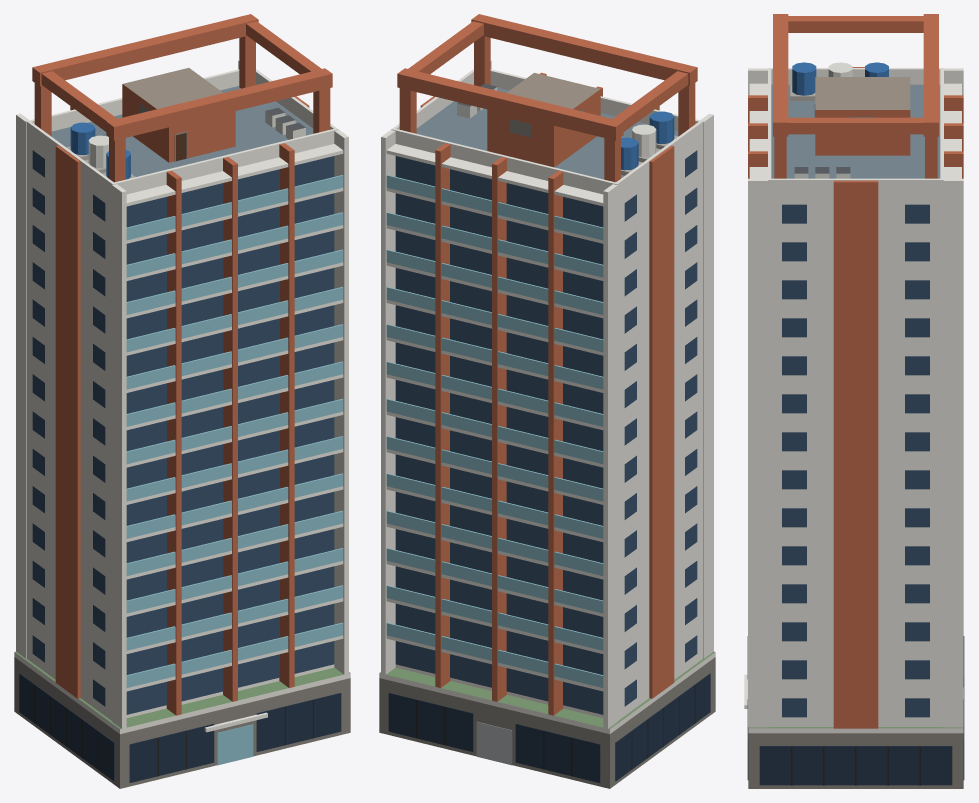
Rendered from gedung_01.glb.
3 renders of one model, left to right at view 1: azimuth 30°, elevation 25°; view 2: azimuth 150°, elevation 25°; view 3: azimuth 270°, elevation 25°, orthographic.
Parts seen in each view (by area): view 1: gedung_01; view 2: gedung_01; view 3: gedung_01.
Boxes of the visible parts, box(x1,y1,x2,y2) form: gedung_01: box(14, 14, 350, 788); gedung_01: box(379, 14, 715, 788); gedung_01: box(744, 14, 964, 788).
Size of the model in its own units: 19.54 by 52.4 by 15.75.
